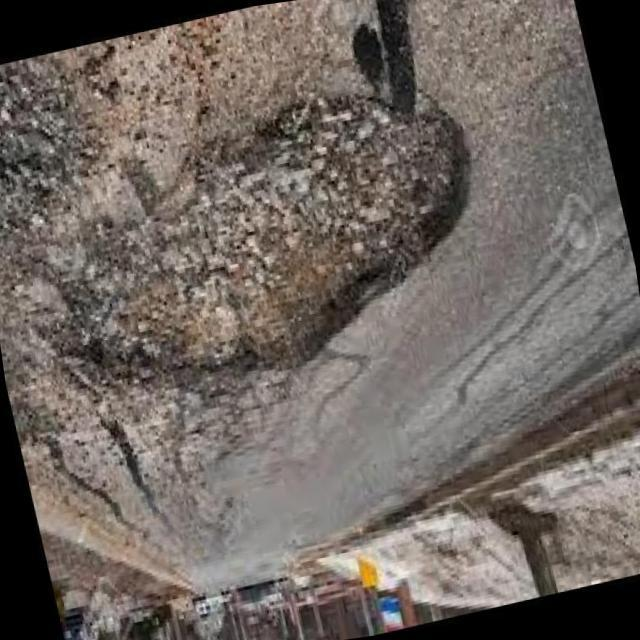pothole: (18, 72, 517, 430)
